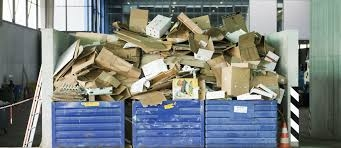paper: (110, 21, 177, 53), (90, 44, 147, 81), (53, 37, 84, 83), (215, 63, 254, 99), (135, 50, 176, 80), (234, 30, 260, 68), (186, 32, 216, 63), (144, 12, 173, 40), (169, 77, 202, 100), (176, 11, 203, 37), (126, 5, 149, 33), (248, 81, 277, 100), (260, 48, 281, 74)
